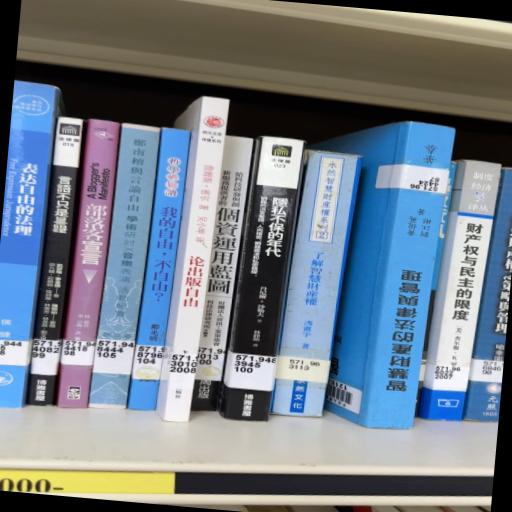reverse: (312, 123, 456, 430)
